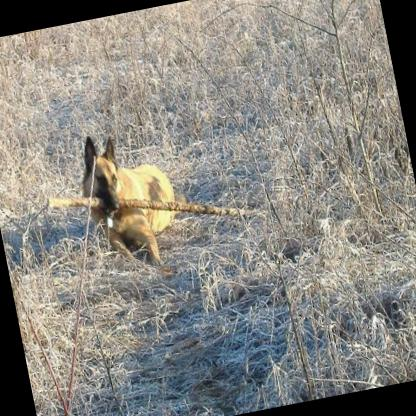malinois: (69, 118, 186, 274)
